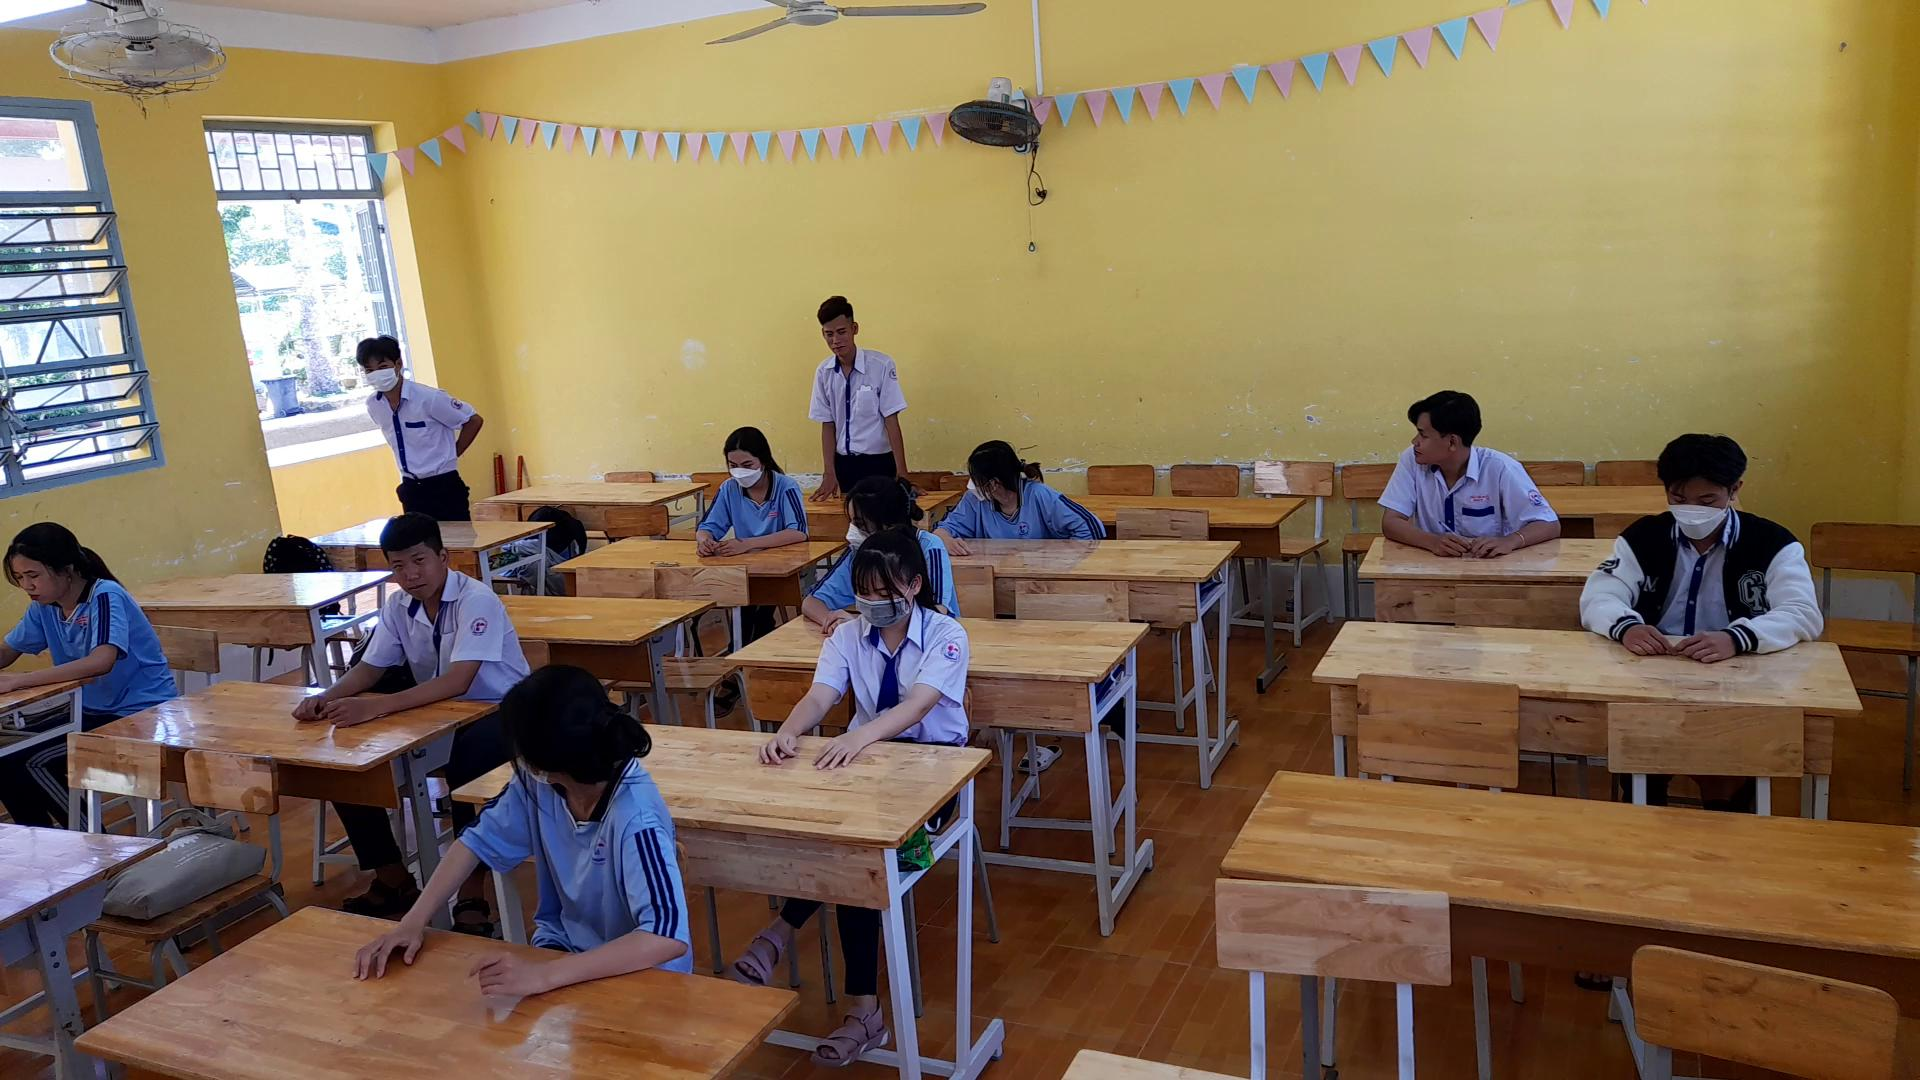Look Around: (480, 647, 638, 798), (1389, 386, 1486, 476), (957, 439, 1044, 516)
Normal: (1580, 425, 1830, 666), (750, 530, 980, 775), (301, 509, 508, 725), (0, 506, 177, 713), (669, 413, 828, 563)
Stand Up: (343, 318, 483, 513), (796, 285, 909, 495)
